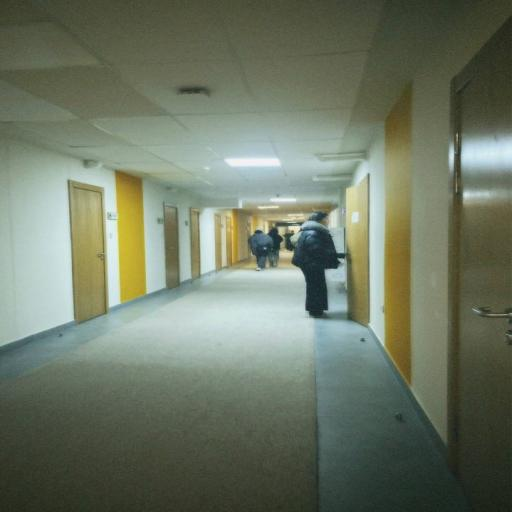child: (0, 50, 512, 512)
corridor: (69, 181, 108, 322), (346, 175, 369, 325), (191, 209, 200, 279), (226, 216, 232, 266)
